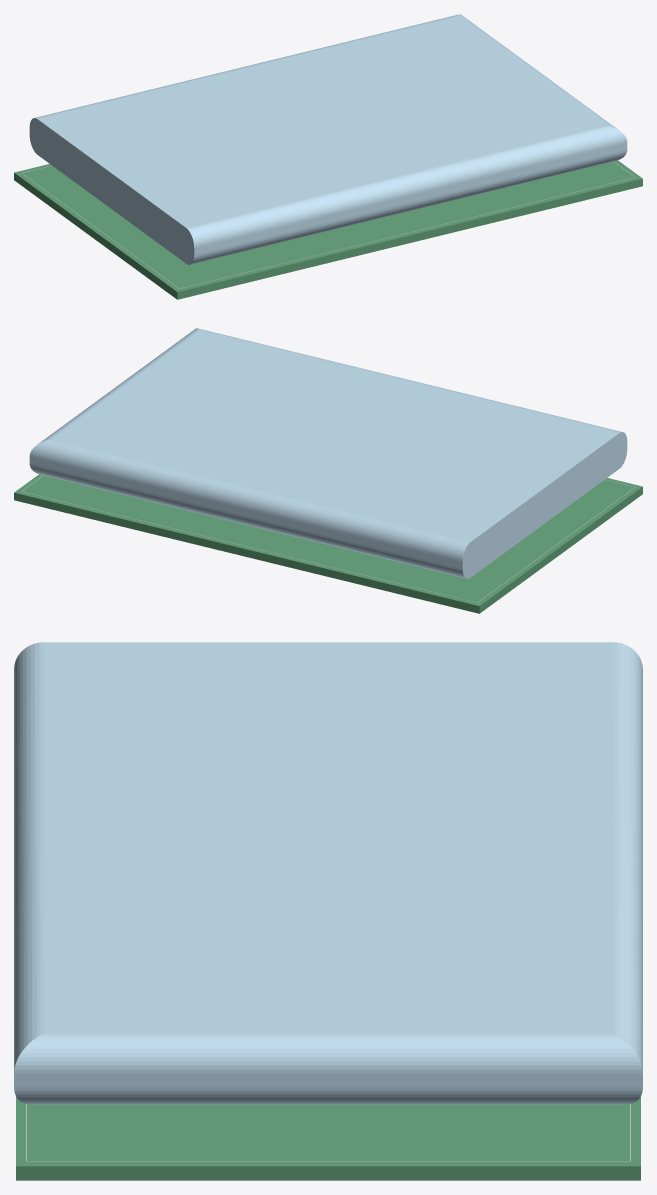
The model's file is head.glb.
The picture shows the model from 3 angles, top to bottom: view 1: azimuth 30°, elevation 25°; view 2: azimuth 150°, elevation 25°; view 3: azimuth 270°, elevation 25°; orthographic projection. The views are drawn at different scales.
Parts seen in each view (by area): view 1: model_1_0_LiPo 706292, PCB, F.Fab; view 2: model_1_0_LiPo 706292, PCB, F.Fab; view 3: model_1_0_LiPo 706292, PCB.
Boxes of the visible parts, <box> form: model_1_0_LiPo 706292: <box>29,14,627,264</box>; PCB: <box>14,160,642,299</box>; F.Fab: <box>21,161,635,288</box>; model_1_0_LiPo 706292: <box>29,328,627,578</box>; PCB: <box>14,474,642,613</box>; F.Fab: <box>21,475,635,602</box>; model_1_0_LiPo 706292: <box>14,642,642,1104</box>; PCB: <box>16,1096,640,1180</box>.
Size of the model in its own units: 102 by 13.1 by 62.5.
